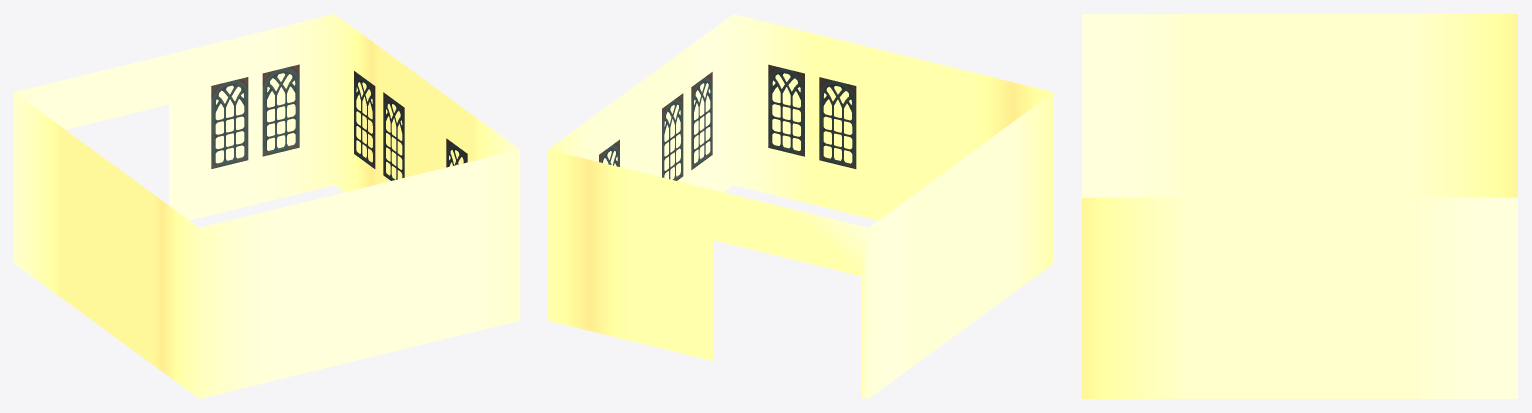
The model's file is Homeworld_Interior_Md_Room_L_Filling_01_Vo.fbx.
The picture shows the model from 3 angles, left to right: view 1: azimuth 30°, elevation 25°; view 2: azimuth 150°, elevation 25°; view 3: azimuth 270°, elevation 25°; orthographic projection. The views are drawn at different scales.
Parts seen in each view (by area): view 1: Homeworld_Interior_Md_Room_L_Filling_01_Vo; view 2: Homeworld_Interior_Md_Room_L_Filling_01_Vo; view 3: Homeworld_Interior_Md_Room_L_Filling_01_Vo.
Part boxes in pixels (x1=…): Homeworld_Interior_Md_Room_L_Filling_01_Vo: x1=14, y1=14, x2=519, y2=398; Homeworld_Interior_Md_Room_L_Filling_01_Vo: x1=548, y1=14, x2=1053, y2=398; Homeworld_Interior_Md_Room_L_Filling_01_Vo: x1=1082, y1=14, x2=1517, y2=398.
Bounding box in the file's own units: 9.79 × 5 × 9.81.
